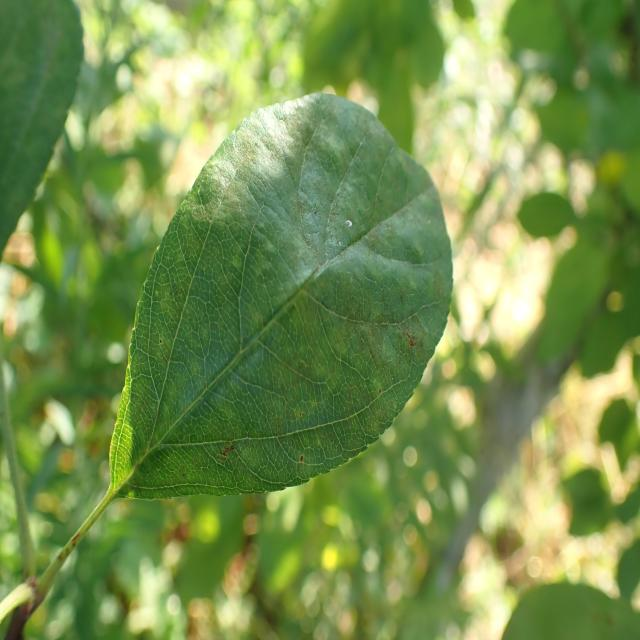scab: (138, 108, 442, 496)
